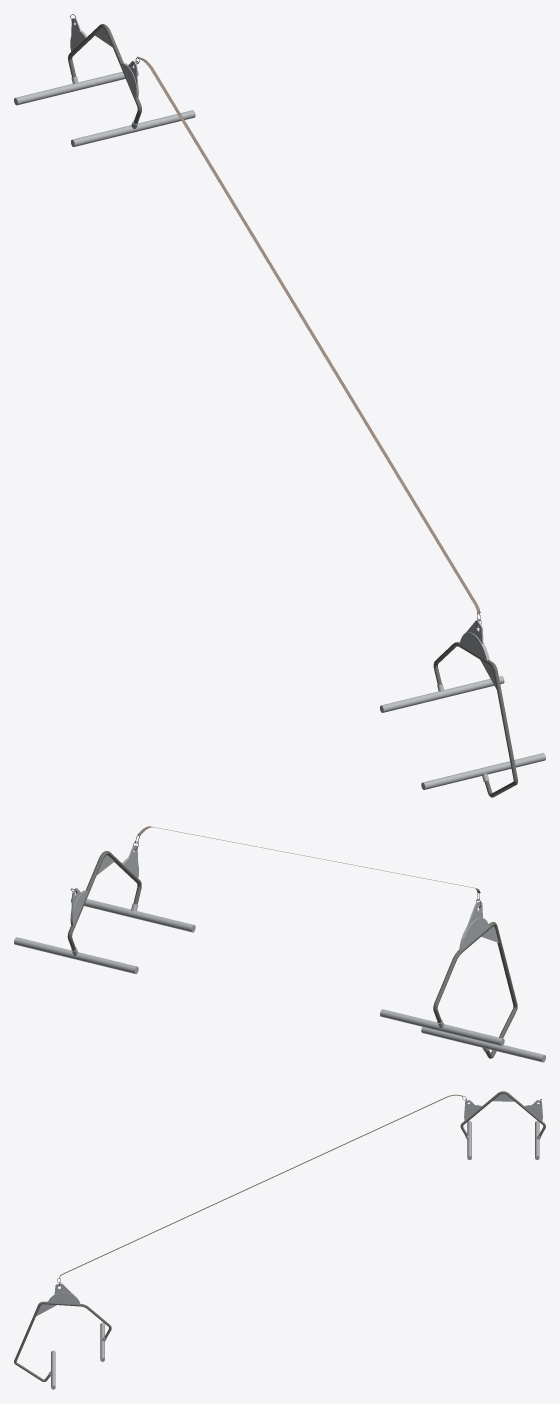
The model's file is G-clamp fall protection system.fbx.
3 renders of one model, top to bottom at view 1: azimuth 30°, elevation 25°; view 2: azimuth 150°, elevation 25°; view 3: azimuth 270°, elevation 25°, orthographic. The views are drawn at different scales.
Visible parts, largest first — view 1: Group21, Group8, Group3, Group10, Group6, Group2; view 2: Group8, Group2, Group6, Group10, Group3, Group12, Group9, Group13, Group21, Group16; view 3: Group21, Group8, Group9, Group12.
Boxes of the visible parts, bbox=[...] form: Group21: bbox=[137, 57, 480, 613]; Group8: bbox=[433, 642, 517, 797]; Group3: bbox=[421, 753, 545, 789]; Group10: bbox=[71, 110, 195, 146]; Group6: bbox=[380, 676, 504, 712]; Group2: bbox=[14, 70, 138, 105]; Group8: bbox=[433, 922, 517, 1058]; Group2: bbox=[14, 937, 138, 973]; Group6: bbox=[380, 1009, 504, 1045]; Group10: bbox=[71, 897, 195, 932]; Group3: bbox=[421, 1027, 545, 1062]; Group12: bbox=[67, 851, 141, 950]; Group9: bbox=[459, 901, 489, 949]; Group13: bbox=[70, 888, 88, 926]; Group21: bbox=[137, 826, 480, 892]; Group16: bbox=[122, 845, 138, 878]; Group21: bbox=[59, 1094, 462, 1278]; Group8: bbox=[14, 1301, 111, 1381]; Group9: bbox=[48, 1283, 80, 1304]; Group12: bbox=[460, 1091, 545, 1136].
Bounding box in the file's own units: 36.02 × 139 × 231.
